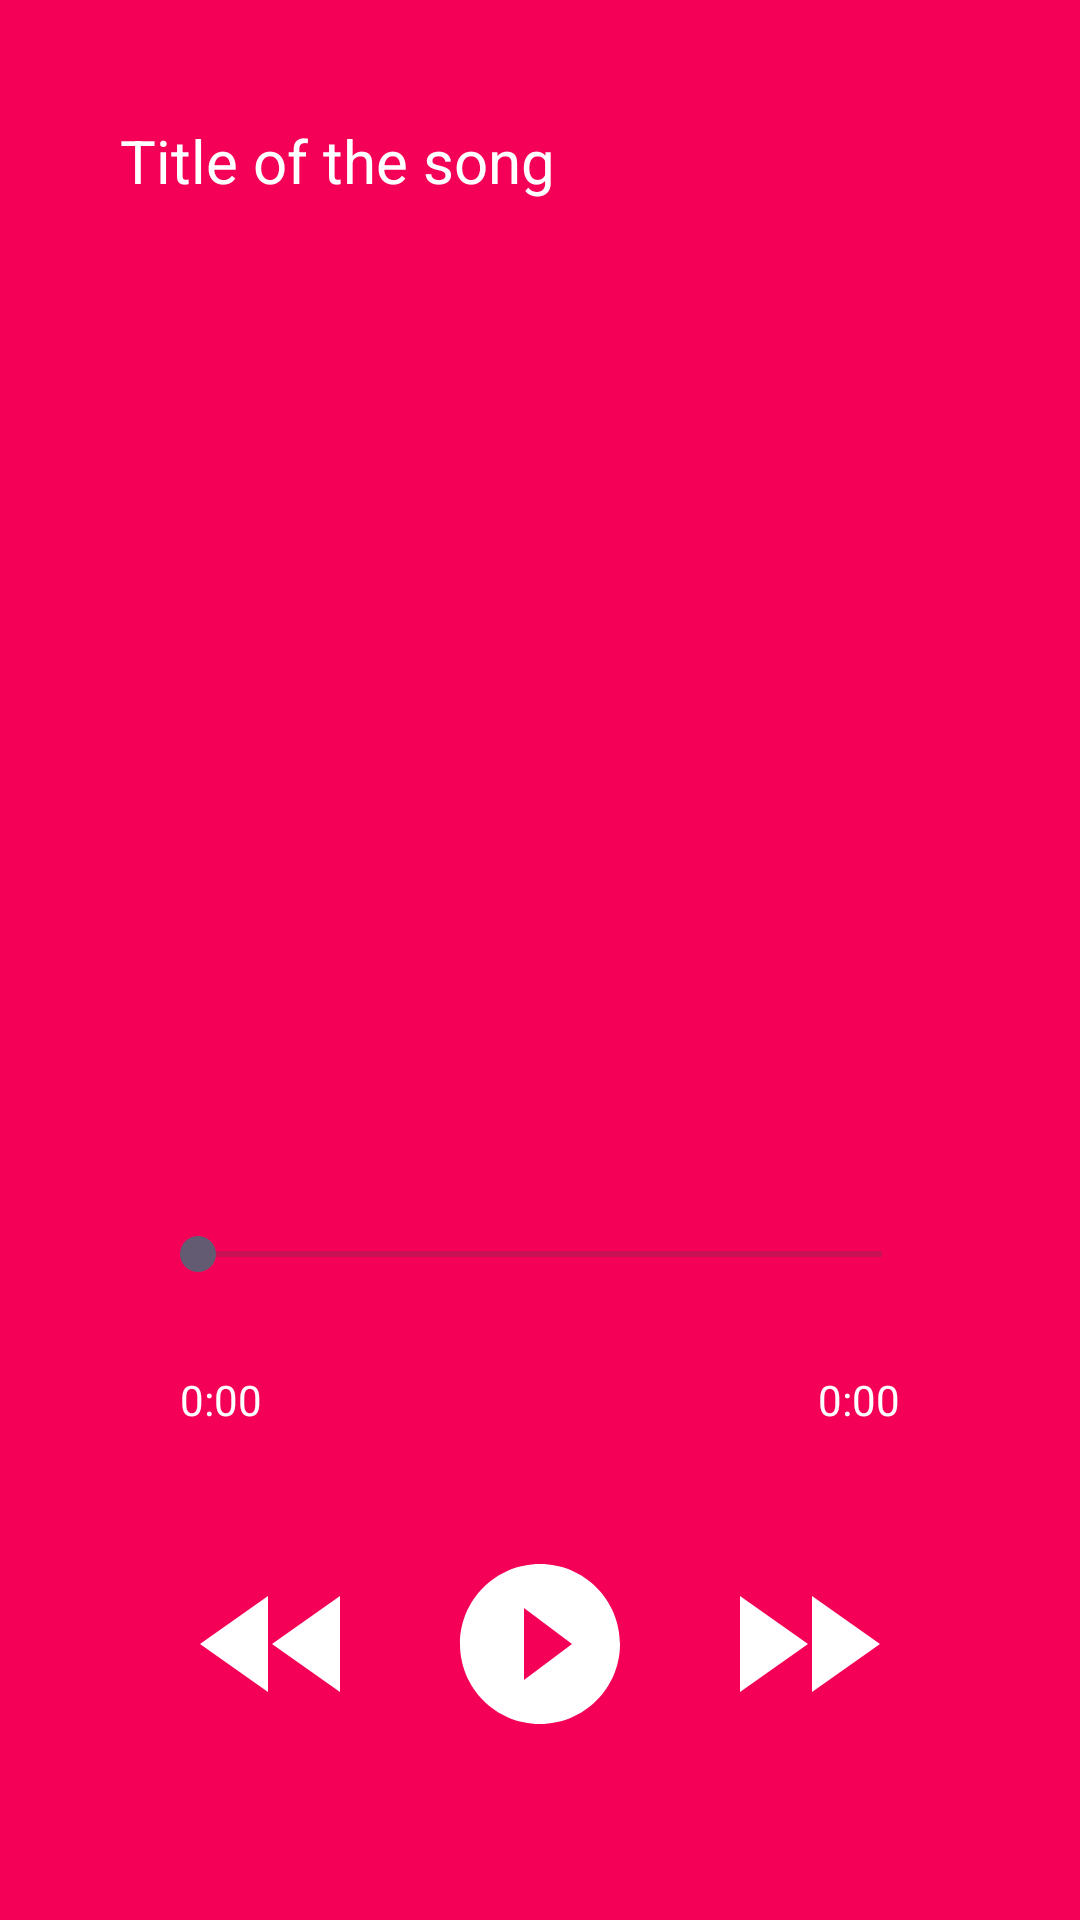

Named icons in this screenshot (1080*1920) and their bounding boxes, [left=x1, top=y1, right=x2, bottom=y2]:
fast forward: [left=740, top=1596, right=880, bottom=1692]
fast rewind: [left=200, top=1596, right=340, bottom=1692]
play circle: [left=459, top=1564, right=620, bottom=1724]
